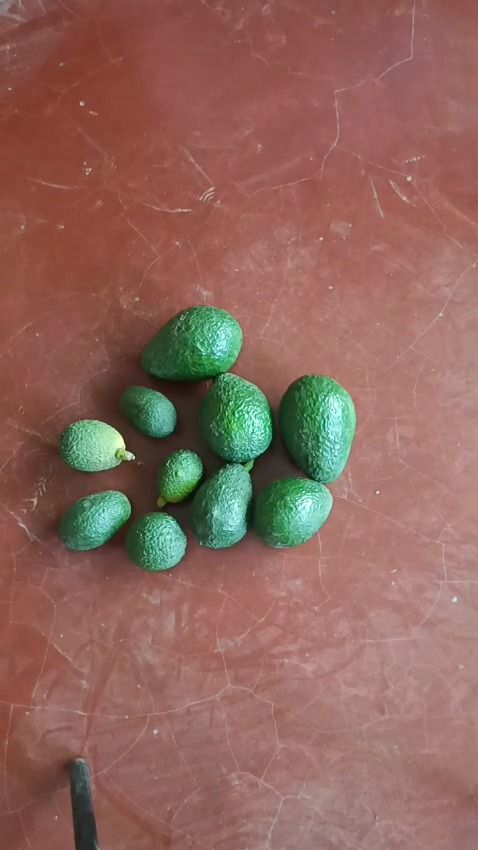Primera: (277, 374, 356, 481), (140, 306, 242, 381), (199, 372, 274, 464)
Segunda: (252, 476, 332, 547), (189, 462, 252, 547)
Tercera: (57, 490, 132, 551), (124, 512, 188, 570), (58, 419, 126, 472), (119, 386, 176, 438), (155, 448, 203, 505)
